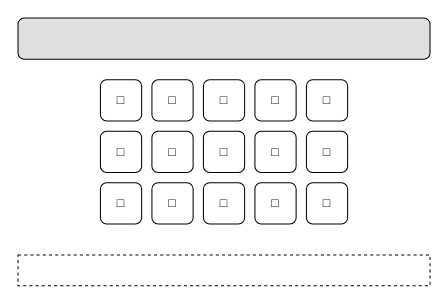
The diagram is 448 pixels wide and 304 high, and some of its shapes have lost their labels. Here are the shapes that lost their labels. From the top down, the centre of each, then its label:
At pixel 223 38: "ユーザー: player123 | 日数: 3日目 | [倉庫へ]".
At pixel 223 270: "💬 成熟した芋はクリックで収穫できます".
